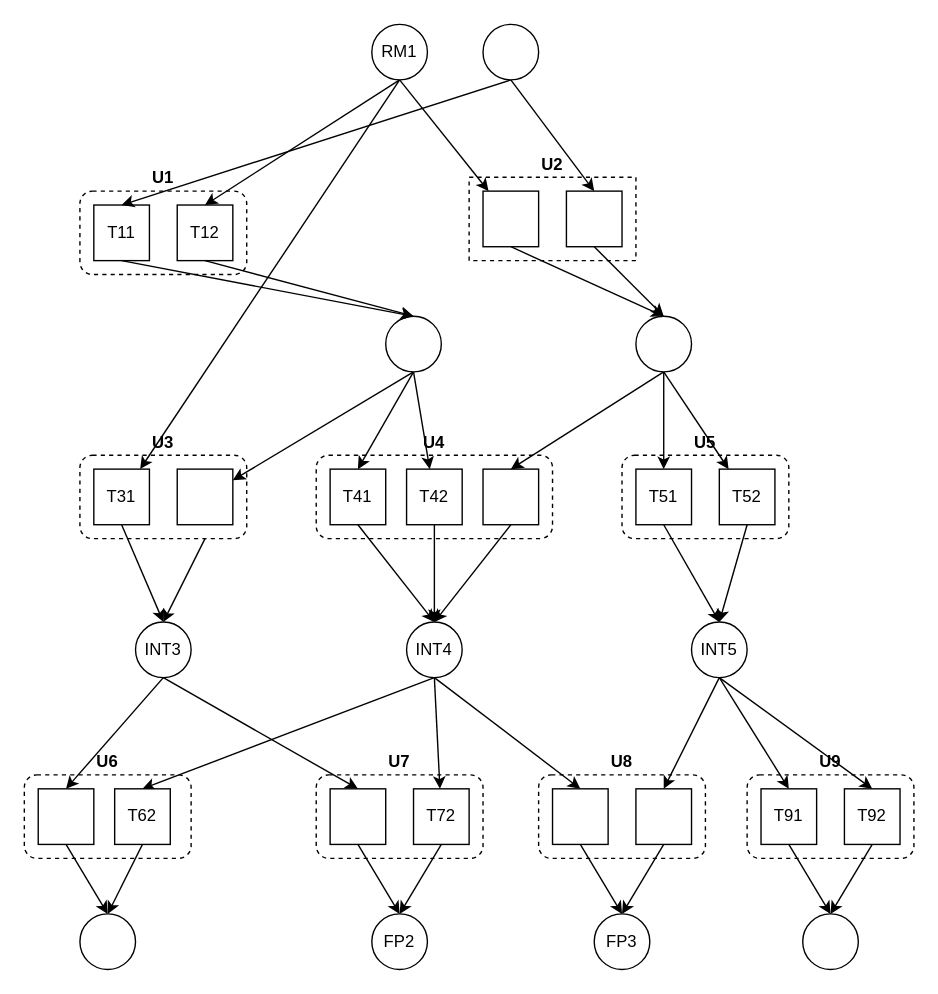
The diagram is 938 pixels wide and 994 high, and some of its shapes have lost their labels. Here are the shapes that lost their labels. From the top down, the centre of each, then its label:
point 510,51: RM2
point 510,218: T21
point 593,218: T22
point 412,343: INT1
point 663,343: INT2
point 204,496: T32
point 510,496: T43
point 65,815: T61
point 357,815: T71
point 579,815: T81
point 663,815: T82
point 107,941: FP1
point 829,941: FP4
